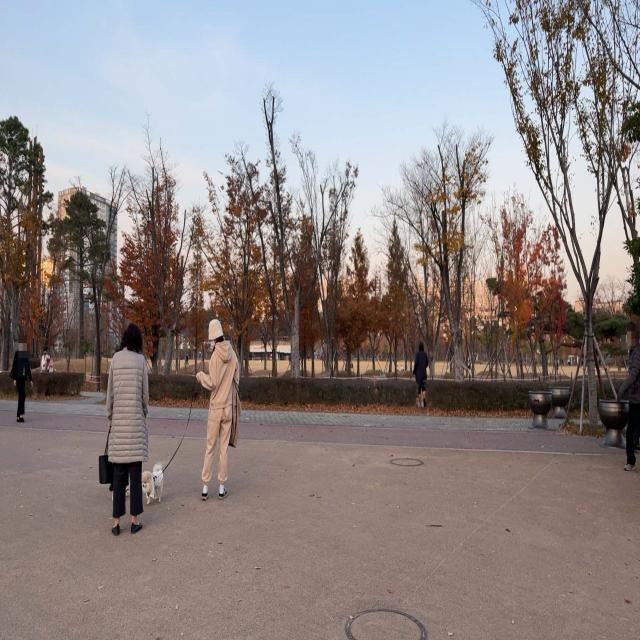Leashed_Dog: (141, 374, 217, 506)
